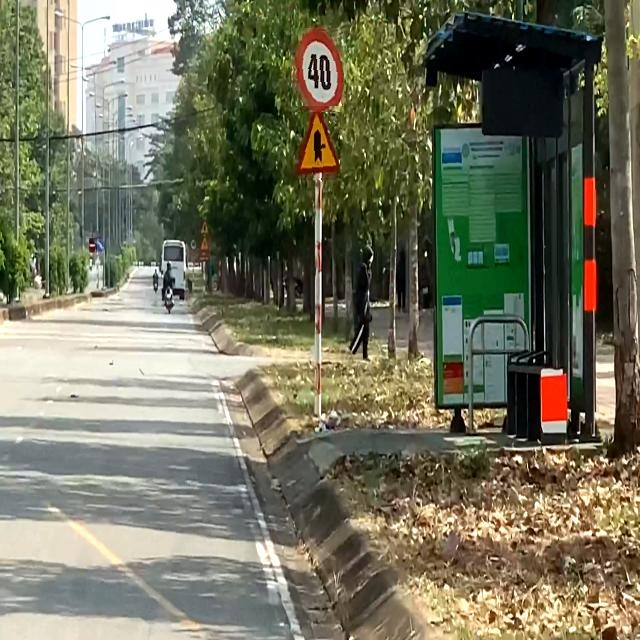bien_nguy_hiem: (292, 28, 346, 106), (296, 112, 342, 180), (90, 238, 98, 253), (97, 239, 104, 253)
